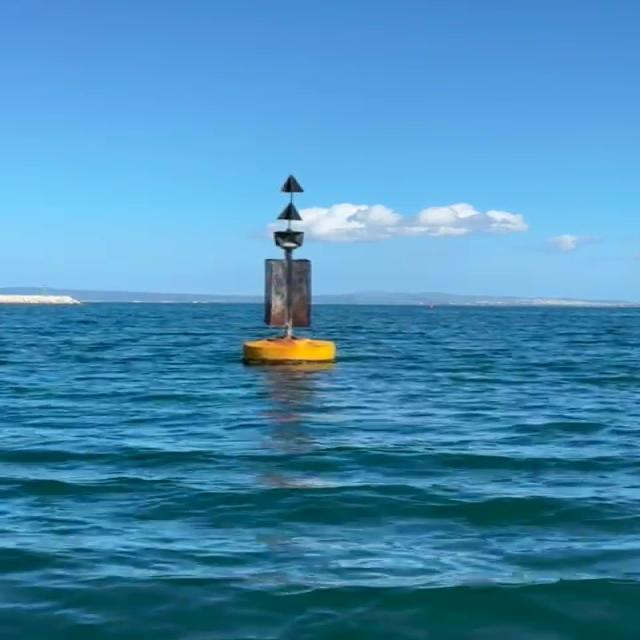marque: (246, 173, 345, 368)
